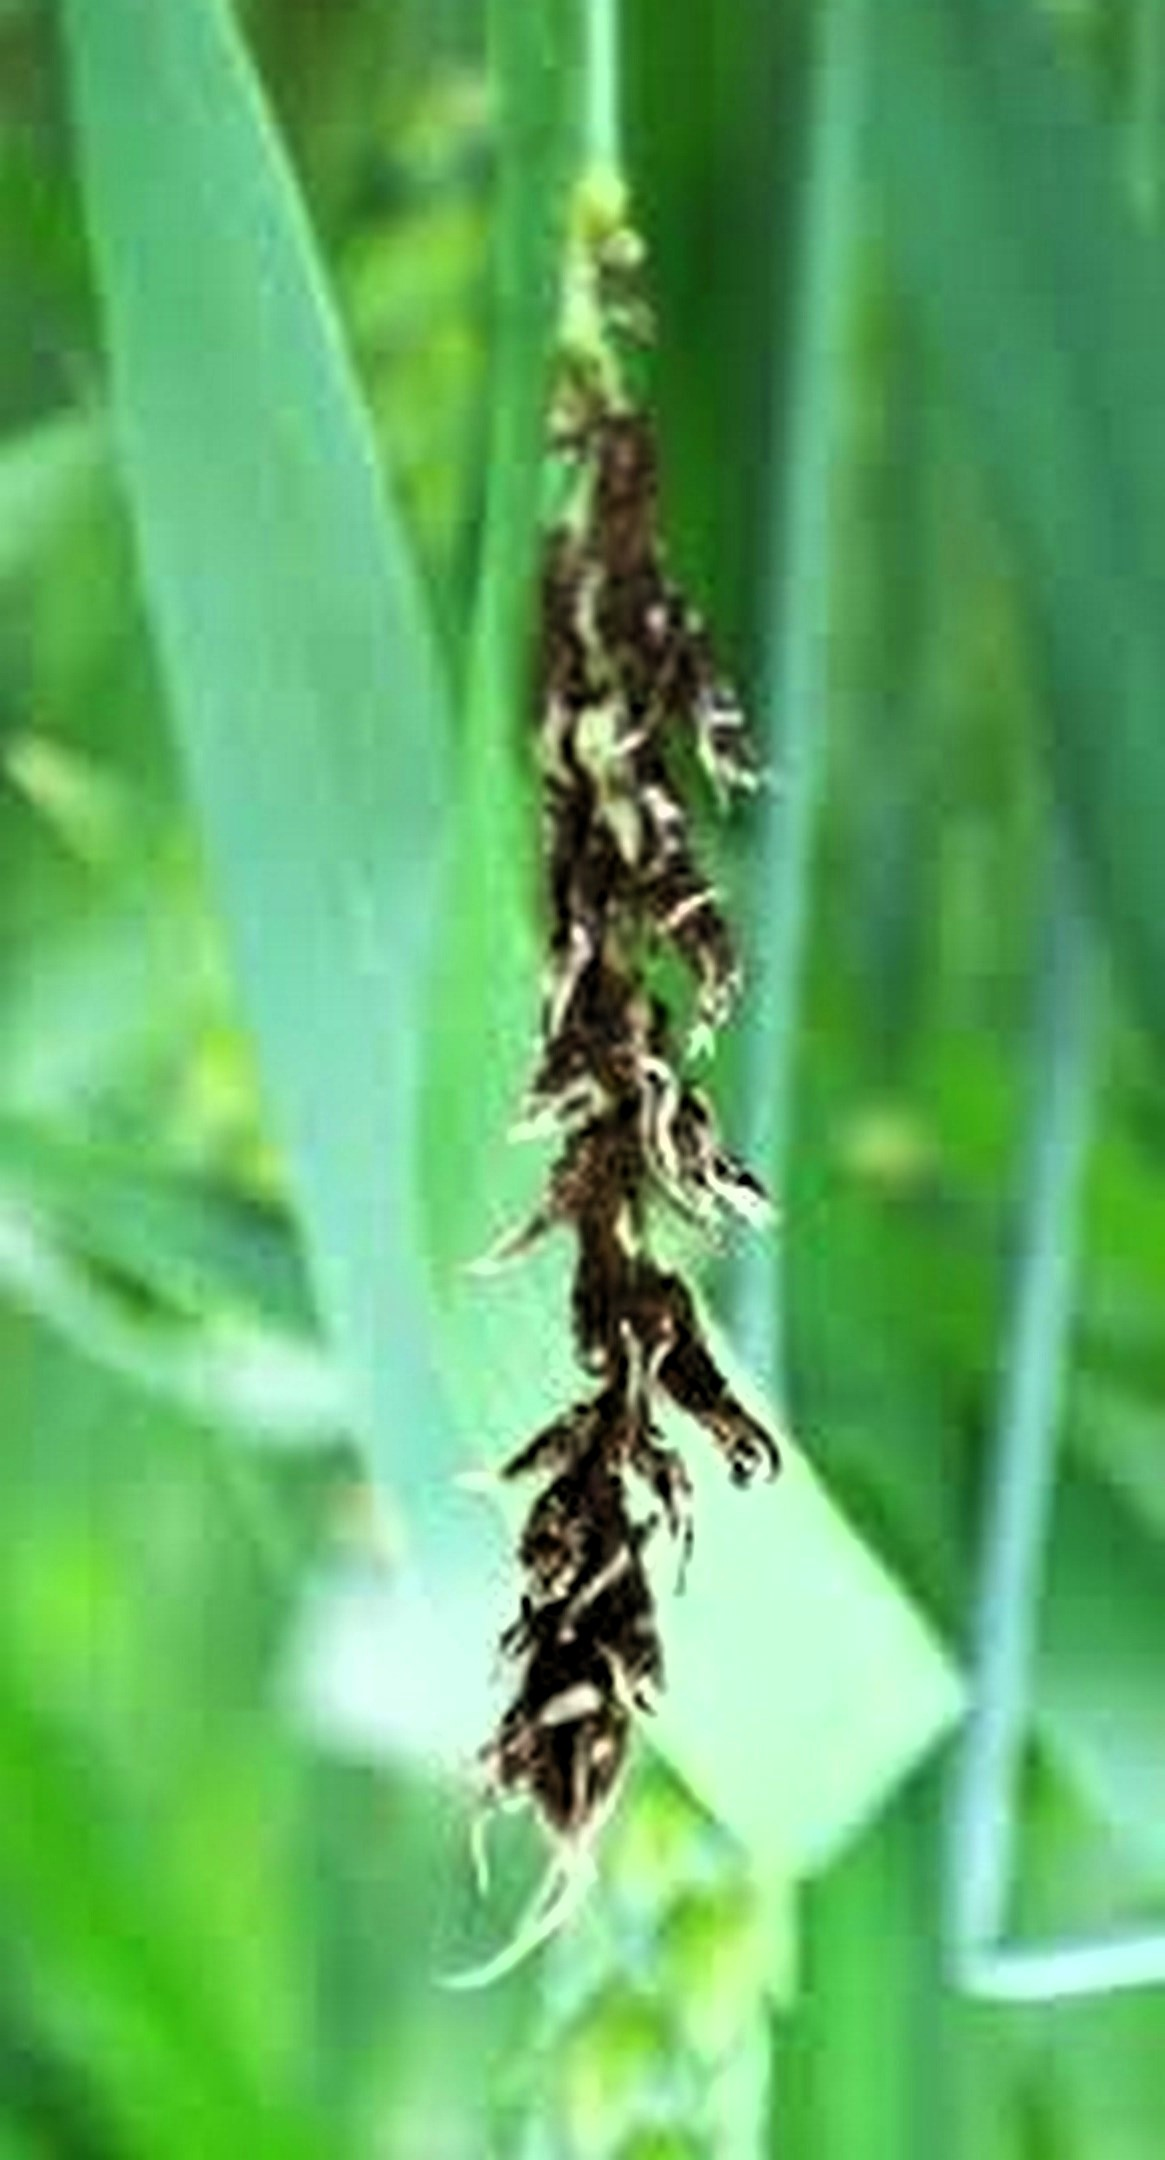Wheat Loose Smut: (465, 529, 851, 1882)
